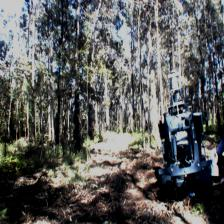trunktrack_idkeyframe: (74, 102, 81, 147)
